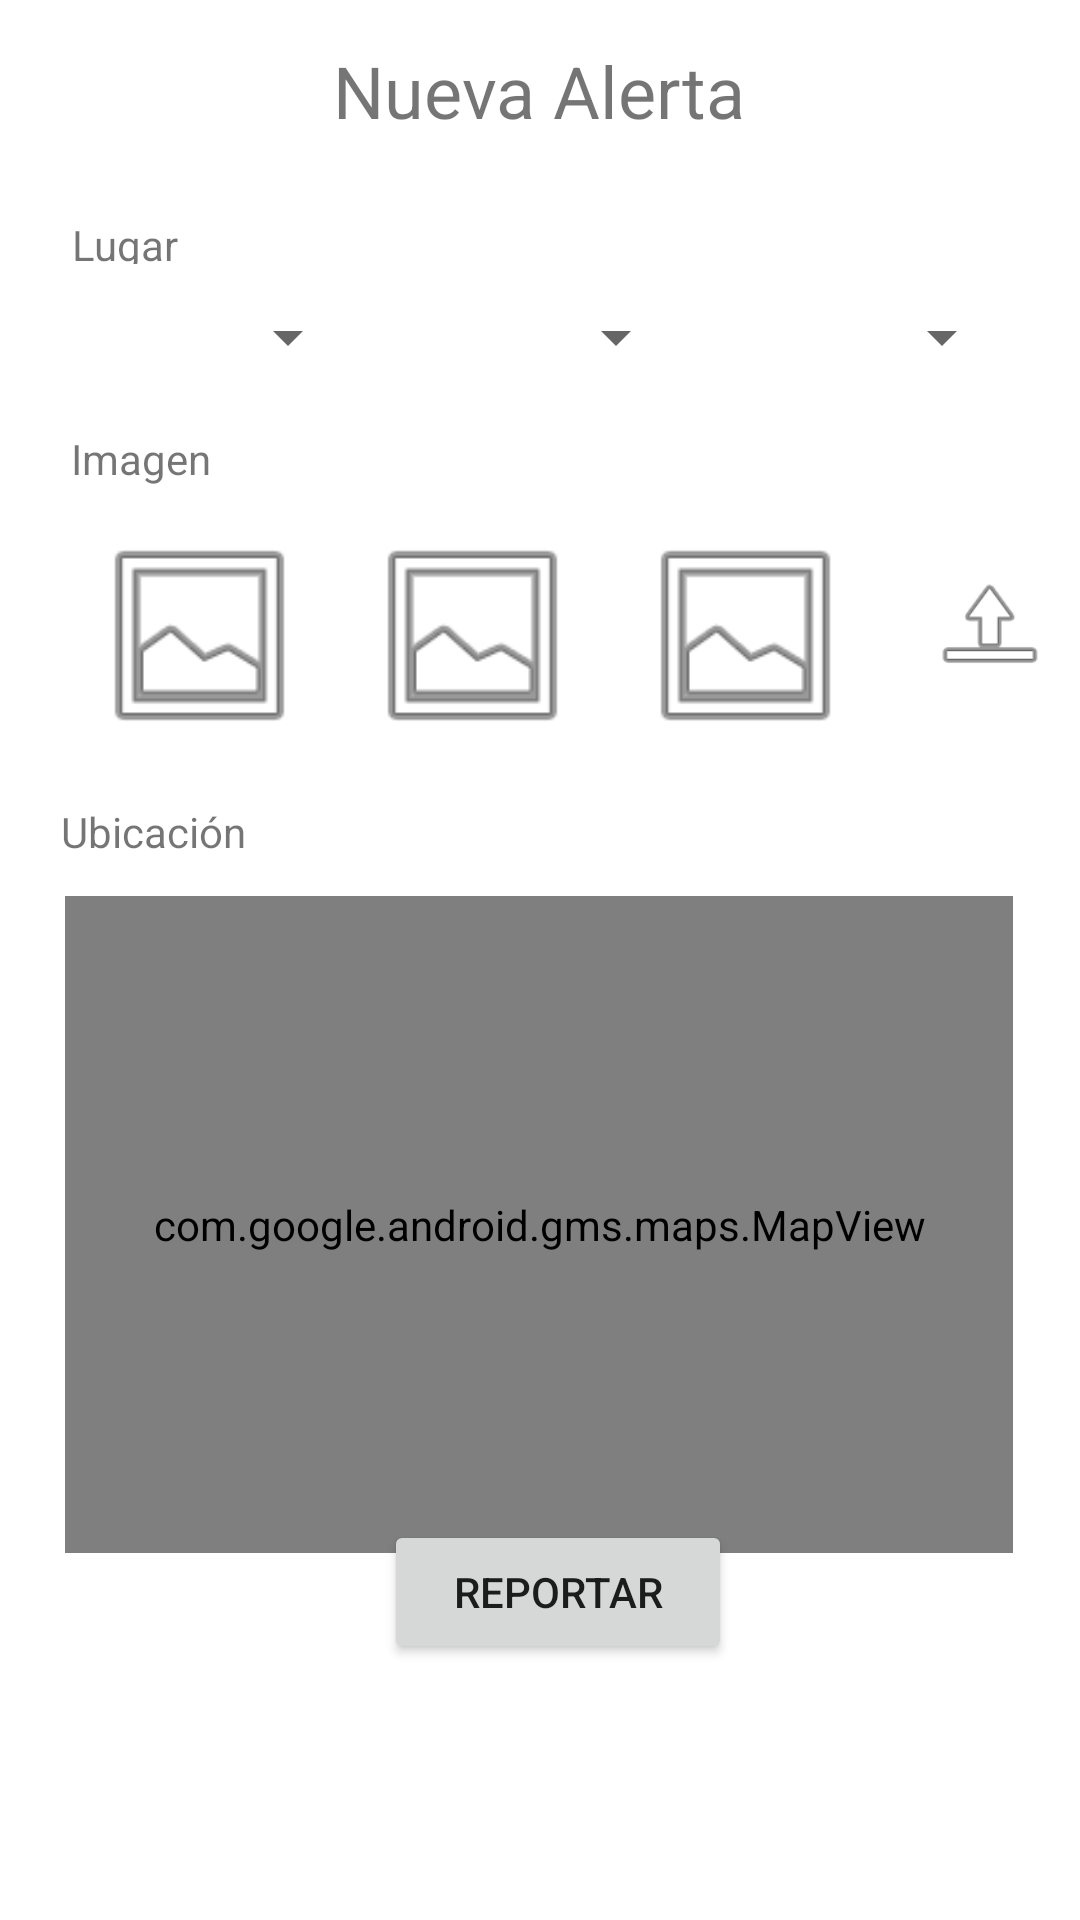

Icons on this 1080px×1920px Android screen, each with the point to tap as [x,y]:
gallery: [199,635], [472,635], [745,635]
upload: [990,623]
